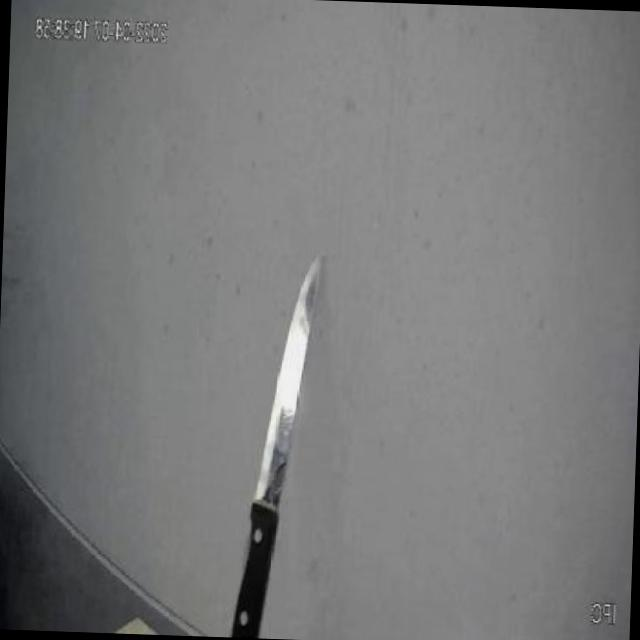knife: (216, 240, 334, 640)
